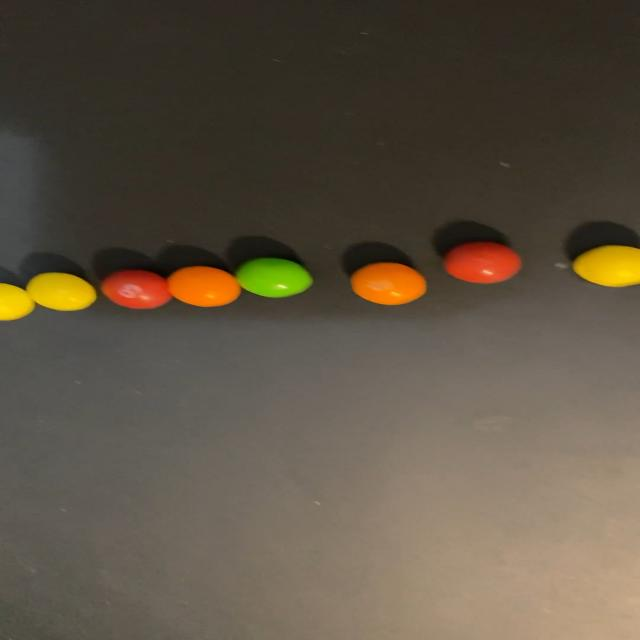smartie: (350, 262, 426, 305), (444, 242, 521, 283), (235, 257, 312, 298), (166, 266, 240, 307), (573, 245, 640, 287), (24, 272, 95, 311), (100, 270, 171, 309), (0, 283, 34, 320)
